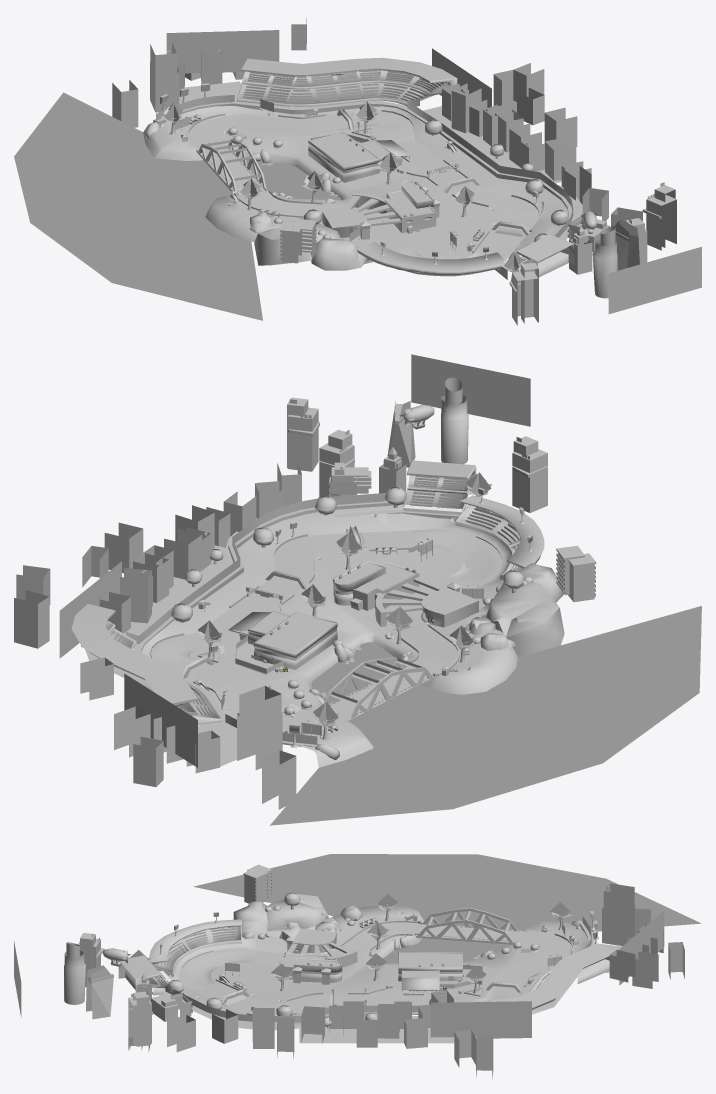
The model's file is racetrack.obj.
3 renders of one model, top to bottom at view 1: azimuth 30°, elevation 25°; view 2: azimuth 150°, elevation 25°; view 3: azimuth 270°, elevation 25°, orthographic. The views are drawn at different scales.
Visible parts, largest first — view 1: speedway_water, speedway_base, speedway_road, speedway_gallery, speedway_extras, speedway_extras_02, speedway_fence, CityBillboard_(1), CityBillboard, BoxTower, speedway_bridge, BoxTower_(1) (+27 smaller); view 2: speedway_water, speedway_base, speedway_road, speedway_extras, speedway_extras_02, speedway_gallery, CityBillboard_(1), speedway_fence, rock_M01_(1), speedway_bridge, CityBillboard, BoxTower_(1) (+30 smaller); view 3: speedway_water, speedway_base, speedway_road, speedway_extras, speedway_extras_02, CityBillboard_(3), speedway_gallery, speedway_bridge, rock_M01_(1), TriangleTower, speedway_fence, CircleTower (+24 smaller).
Part boxes in pixels (x1,y1,x2,y2): speedway_water: (14,92,341,320); speedway_base: (143,106,582,269); speedway_road: (188,111,539,259); speedway_gallery: (237,57,457,106); speedway_extras: (308,132,436,237); speedway_extras_02: (356,227,574,279); speedway_fence: (153,95,575,238); CityBillboard_(1): (608,246,701,314); CityBillboard: (166,30,279,73); BoxTower: (642,182,676,250); speedway_bridge: (196,139,267,192); BoxTower_(1): (509,259,538,325); speedway_water: (270,606,701,825); speedway_base: (142,504,517,767); speedway_road: (150,529,501,732); speedway_extras: (228,561,478,669); speedway_extras_02: (335,460,544,579); speedway_gallery: (71,603,222,724); CityBillboard_(1): (411,354,530,426); speedway_fence: (126,491,406,749); rock_M01_(1): (479,582,564,657); speedway_bridge: (324,657,434,722); CityBillboard: (124,673,197,767); BoxTower_(1): (512,436,547,512); speedway_water: (193,854,701,963); speedway_base: (158,905,592,1030); speedway_road: (180,922,572,1015); speedway_extras: (279,928,462,995); speedway_extras_02: (118,919,242,1005); CityBillboard_(3): (430,1001,531,1038); speedway_gallery: (490,943,614,1014); speedway_bridge: (415,907,522,944); rock_M01_(1): (266,894,329,937); TriangleTower: (86,965,113,1019); speedway_fence: (162,916,594,1024); CircleTower: (64,942,85,1004).
Bounding box in the file's own units: 129 × 22.15 × 169.
